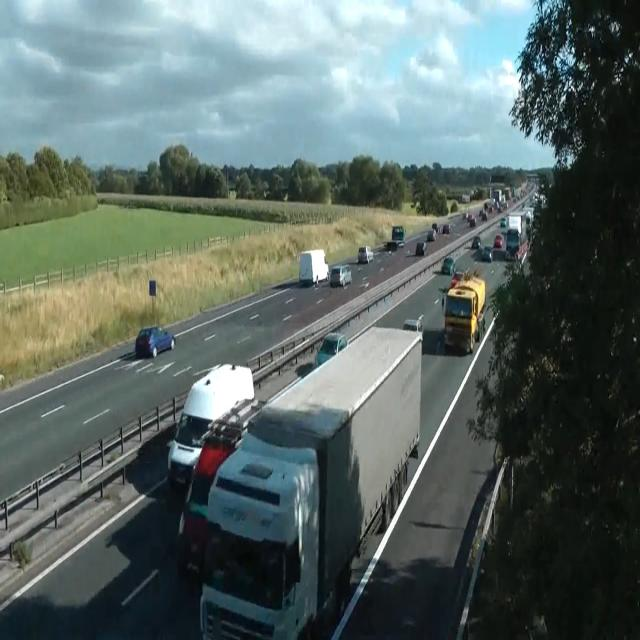bus: (135, 324, 175, 358), (314, 332, 348, 368), (402, 314, 424, 339), (441, 256, 455, 275), (481, 244, 493, 262), (451, 271, 464, 287), (416, 241, 428, 256), (383, 241, 397, 253), (471, 235, 481, 249), (493, 233, 503, 247), (426, 228, 436, 241), (442, 223, 452, 235), (479, 209, 487, 220), (498, 217, 506, 227), (469, 216, 475, 227)
car: (198, 324, 422, 638)
jeep: (176, 398, 258, 580), (167, 361, 255, 491), (441, 270, 485, 354), (329, 264, 351, 287), (505, 226, 520, 258), (358, 245, 373, 263)
minibus: (299, 249, 329, 286), (506, 214, 522, 235), (392, 226, 404, 247), (462, 194, 469, 202)
